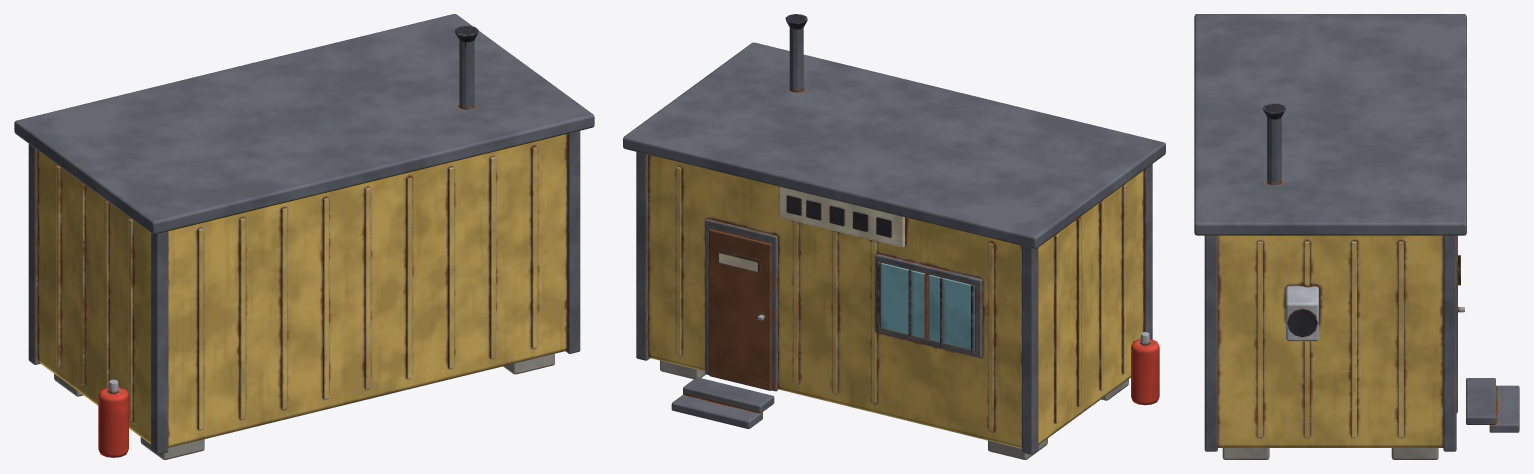
The model's file is cabin.glb.
3 renders of one model, left to right at view 1: azimuth 30°, elevation 25°; view 2: azimuth 150°, elevation 25°; view 3: azimuth 270°, elevation 25°, orthographic. The views are drawn at different scales.
Parts seen in each view (by area): view 1: body; view 2: body; view 3: body.
Part boxes in pixels (left/top/right/bottom): body: left=14, top=14, right=594, bottom=459; body: left=623, top=14, right=1165, bottom=459; body: left=1194, top=14, right=1519, bottom=459.
Bounding box in the file's own units: 5.88 × 3.79 × 3.46.
Materials: 1 (1 with a texture image).
